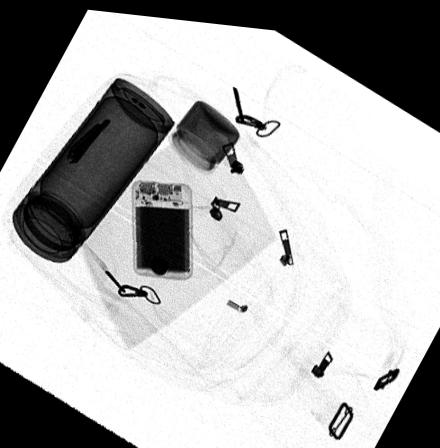Powerbank: (130, 176, 194, 277)
